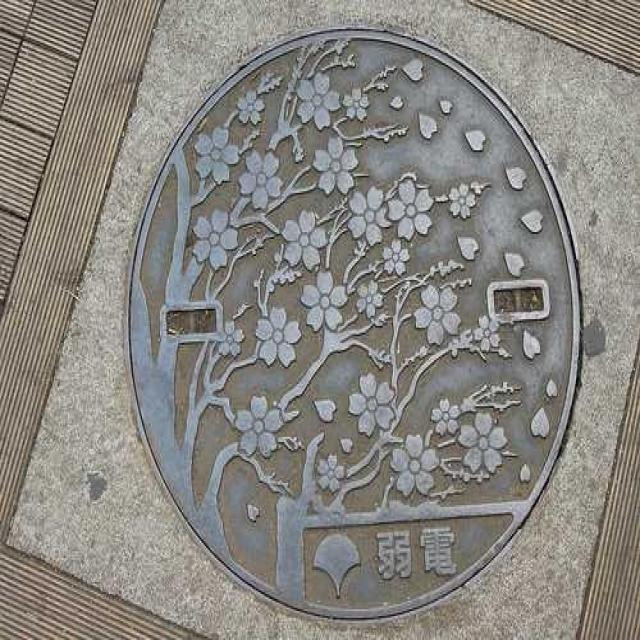manhole: (129, 28, 580, 619)
